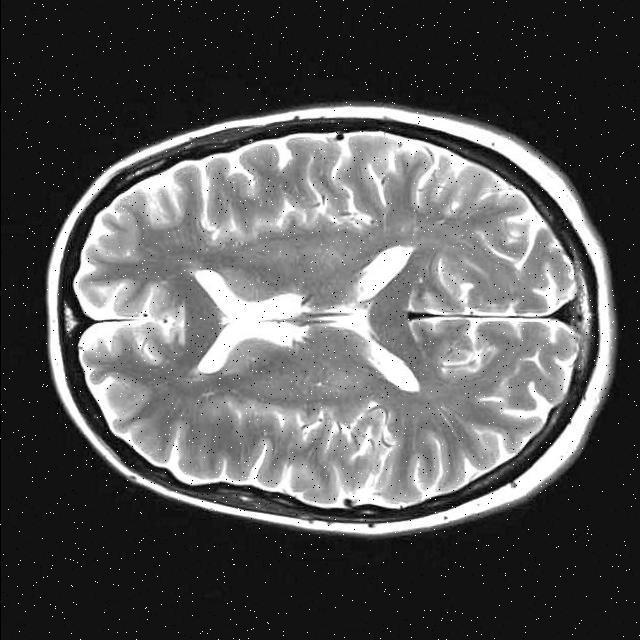No_Tumor: (48, 105, 614, 535)
